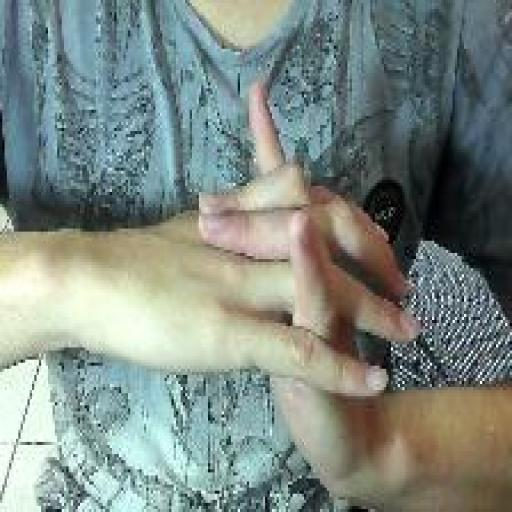Ushi -ox-: (195, 76, 424, 512)
